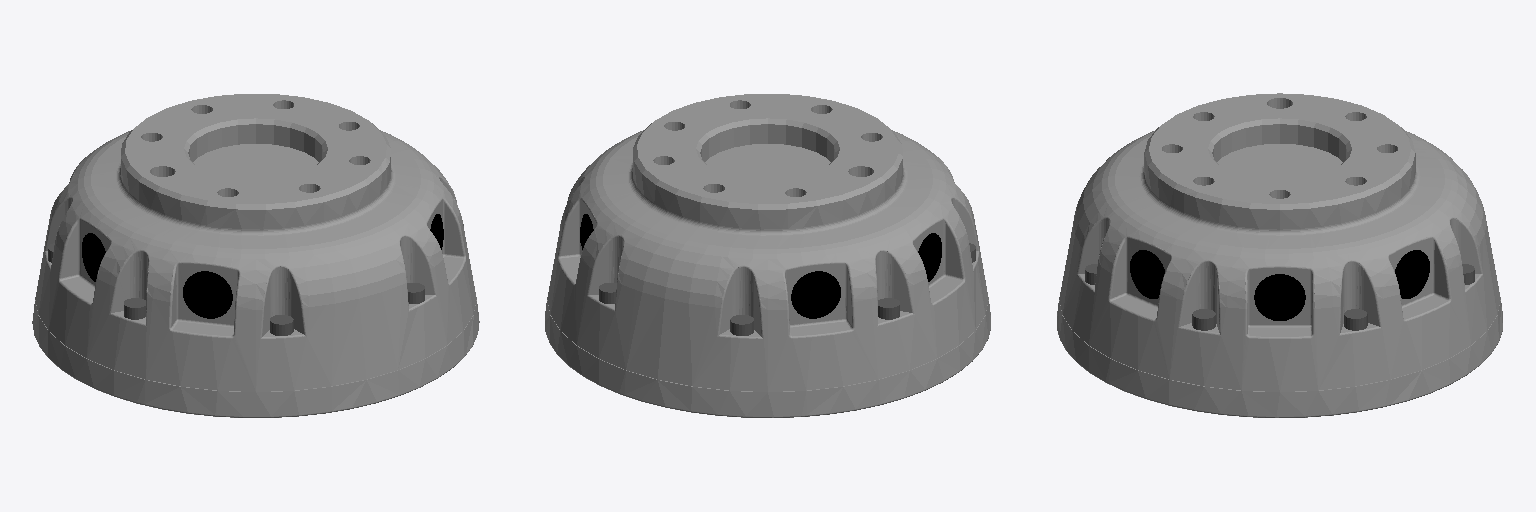
The picture shows the model from 3 angles: view 1: azimuth 30°, elevation 25°; view 2: azimuth 150°, elevation 25°; view 3: azimuth 270°, elevation 25°; orthographic projection.
Parts seen in each view (by area): view 1: ShapeIndexedFaceSet; view 2: ShapeIndexedFaceSet; view 3: ShapeIndexedFaceSet.
Part boxes in pixels (left/top/right/bottom): ShapeIndexedFaceSet: left=32, top=94, right=479, bottom=417; ShapeIndexedFaceSet: left=545, top=94, right=990, bottom=417; ShapeIndexedFaceSet: left=1057, top=93, right=1502, bottom=417.
Size of the model in its own units: 0.1039 by 0.0549 by 0.1038.